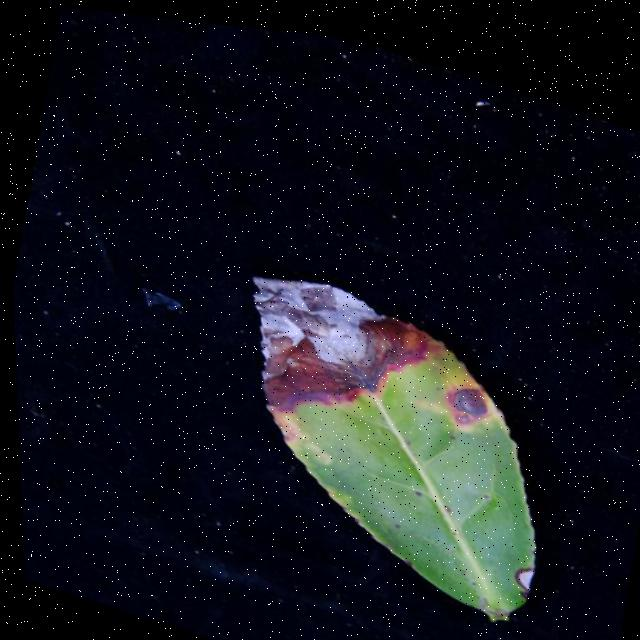Tea cloud leaf blight: (208, 232, 425, 444)
